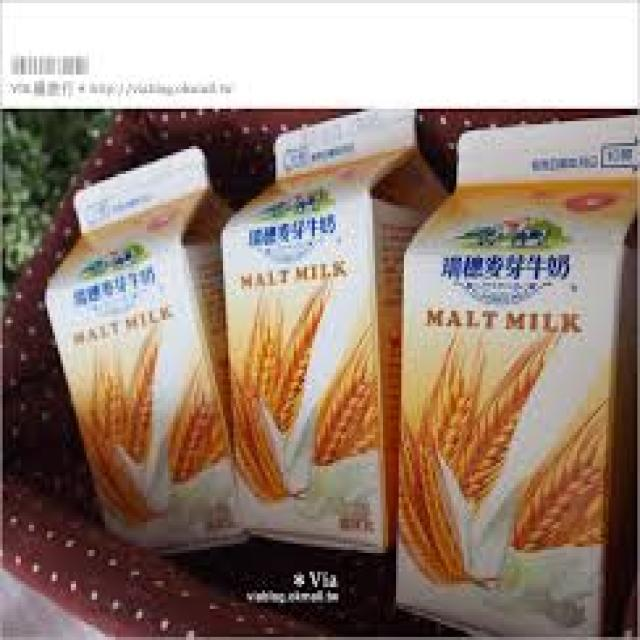RuiSui_MaltedMilk: (399, 108, 640, 640), (215, 106, 446, 546), (41, 148, 258, 556)
